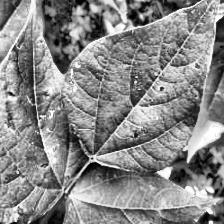ALS: (103, 0, 224, 156), (0, 1, 77, 224), (58, 160, 212, 224), (0, 0, 40, 44)
